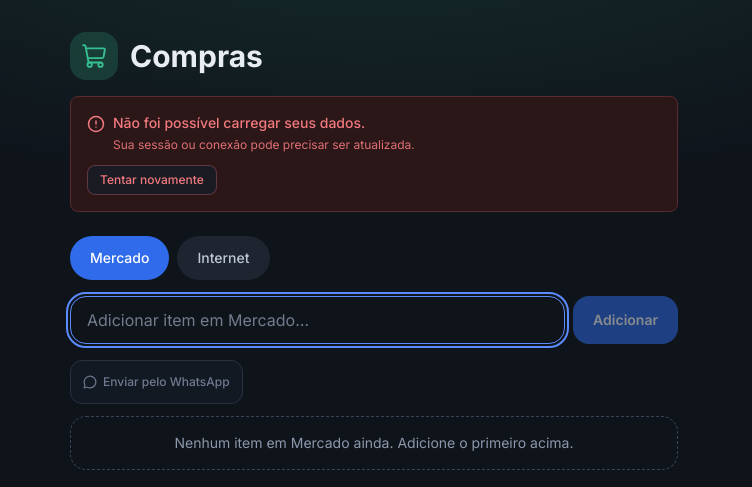
Test: ComprasPage — recuperação quando a inicialização das listas falha › o aviso desaparece depois de uma recuperação bem-sucedida
Check: the message is shown, box [70,96,678,212]
Click the button "Tentar novamente". click: coordinates (152, 180)
box: [87,165,217,195]
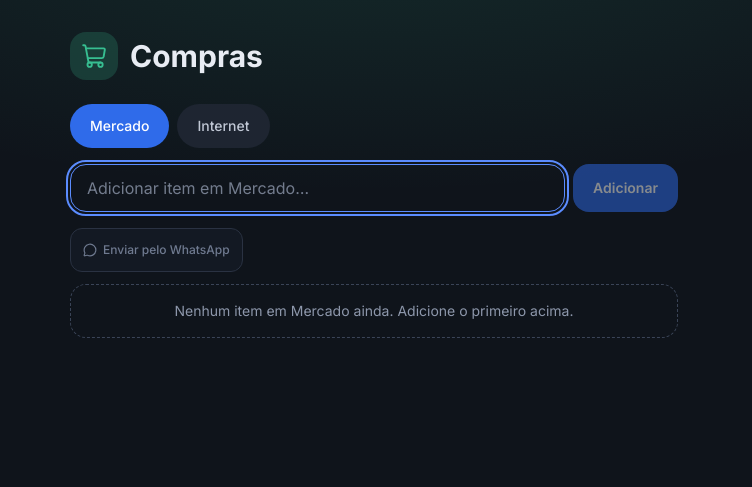
Check: the message is gone
